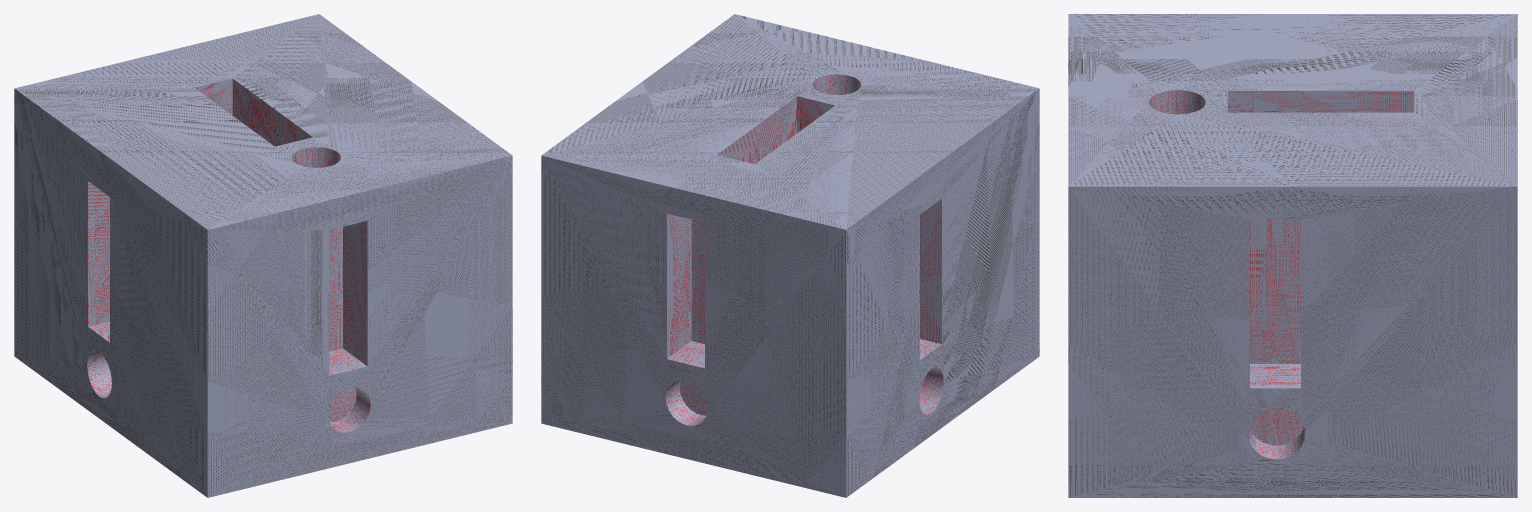
Rendered from Berserk.fbx.
The picture shows the model from 3 angles, left to right: view 1: azimuth 30°, elevation 25°; view 2: azimuth 150°, elevation 25°; view 3: azimuth 270°, elevation 25°; orthographic projection. The views are drawn at different scales.
Parts seen in each view (by area): view 1: Model; view 2: Model; view 3: Model.
Part boxes in pixels (bbox=[...]): Model: bbox=[14, 14, 512, 497]; Model: bbox=[541, 14, 1039, 497]; Model: bbox=[1068, 14, 1517, 497].
Size of the model in its own units: 60.94 by 51.19 by 66.94.
